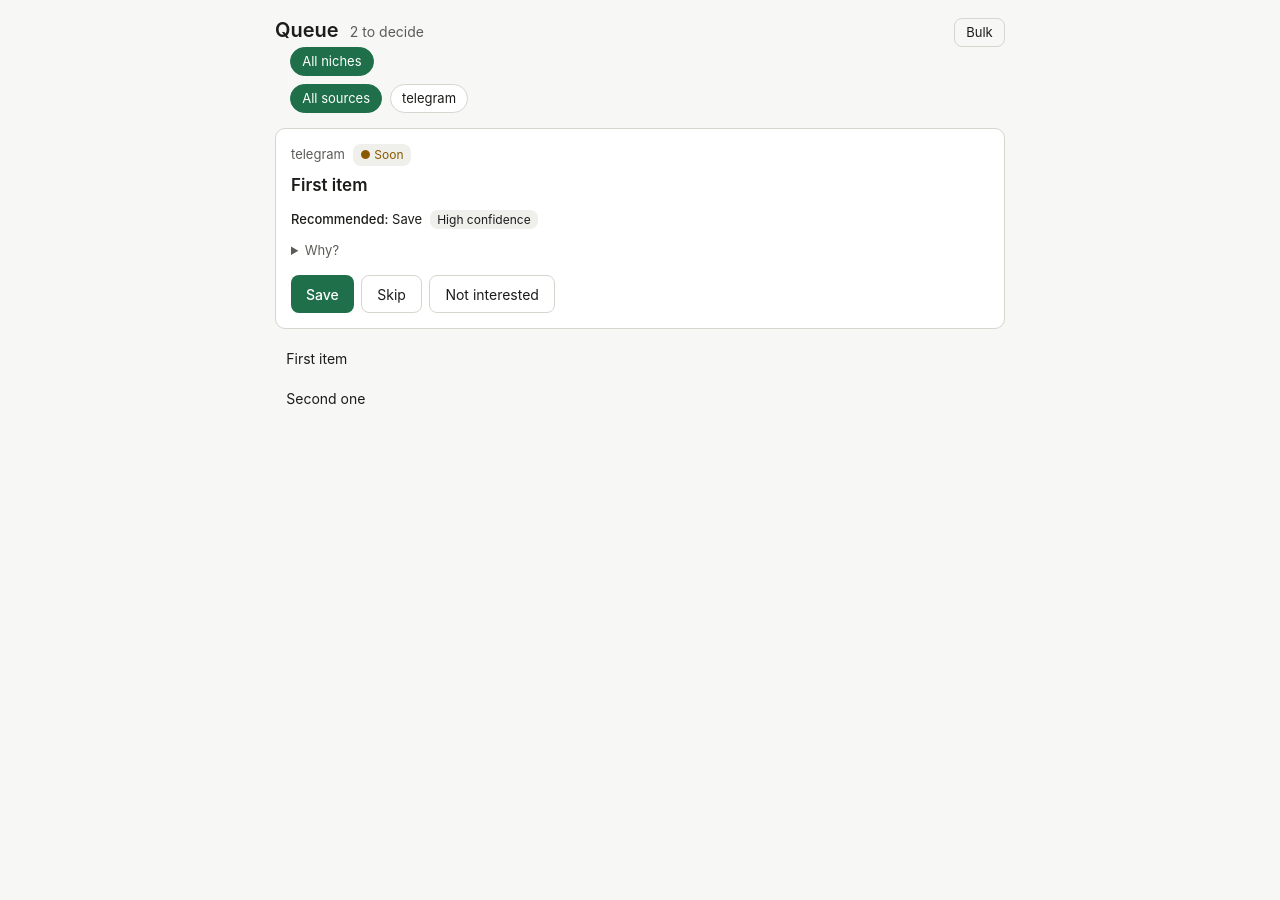
Test: command palette › filters as the user types and shows an empty state
This screenshot has width=1280, height=900.
Expected: the heading "First item" is shown, [291,175,368,195]
Press k
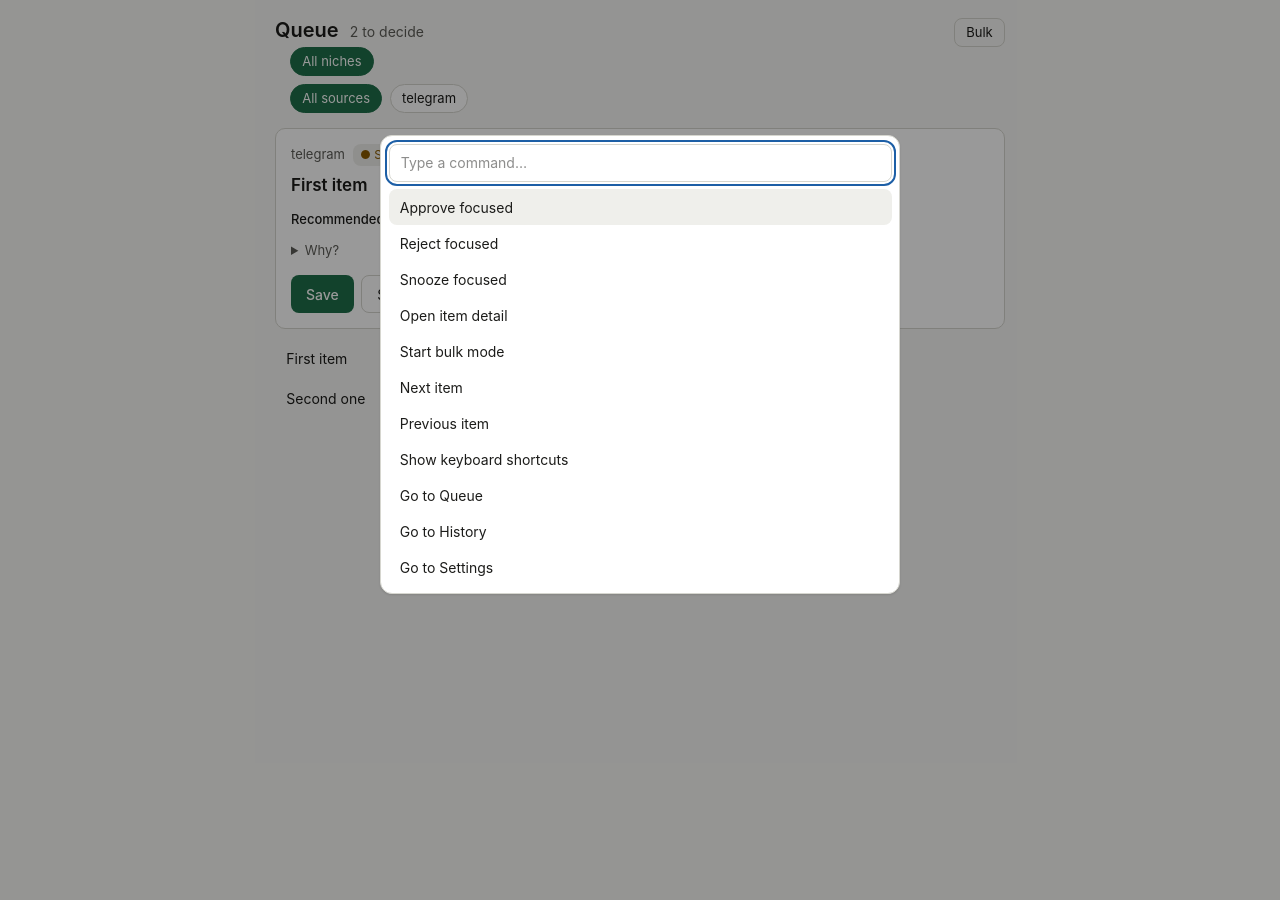
Type "history" into the dropdown at x=640, y=162, box [388,144,892,182]
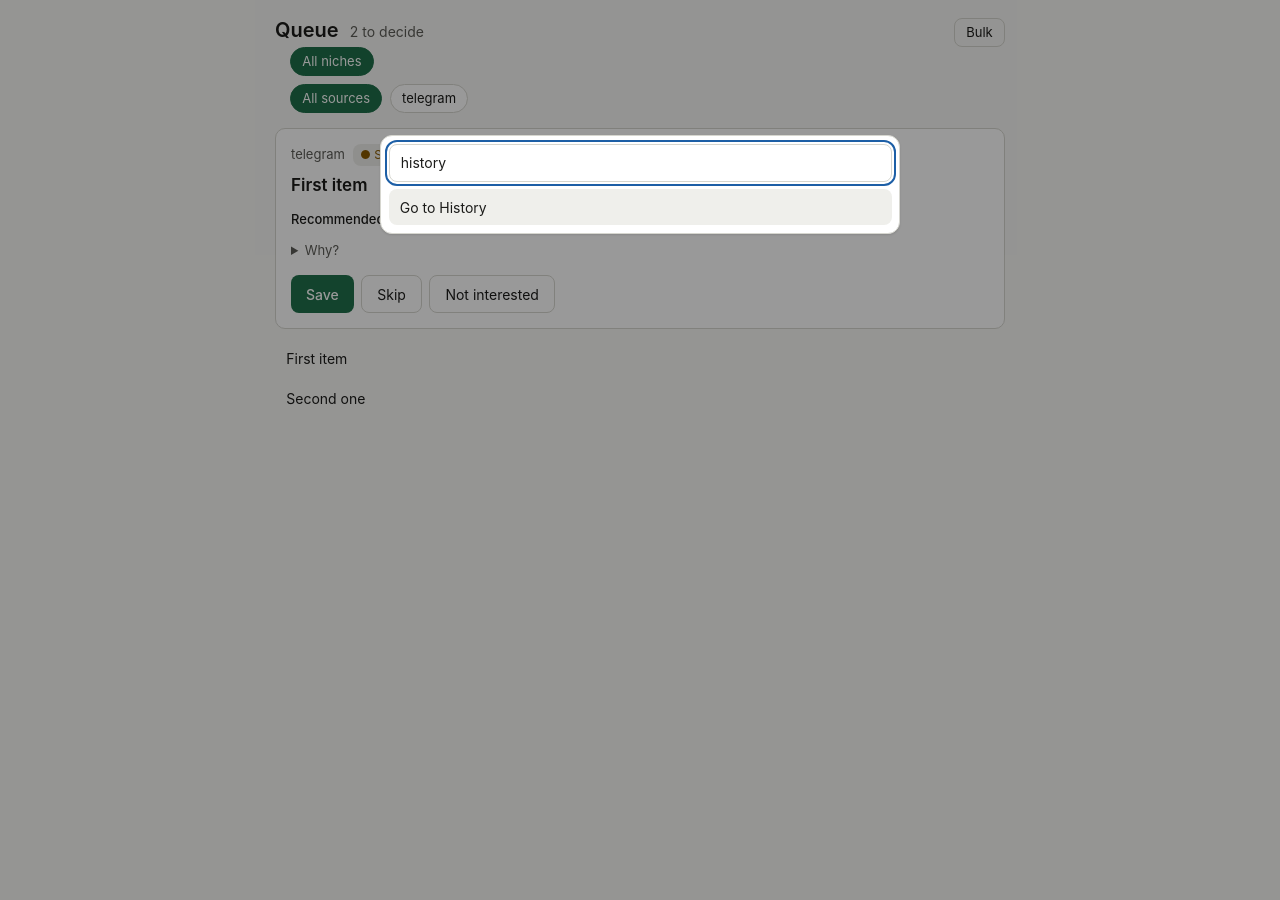
Result: the options read "Go to History", in this order at [388,189,892,225]
Replace the text in the dropdown with "zzzz" at x=640, y=162, box [388,144,892,182]
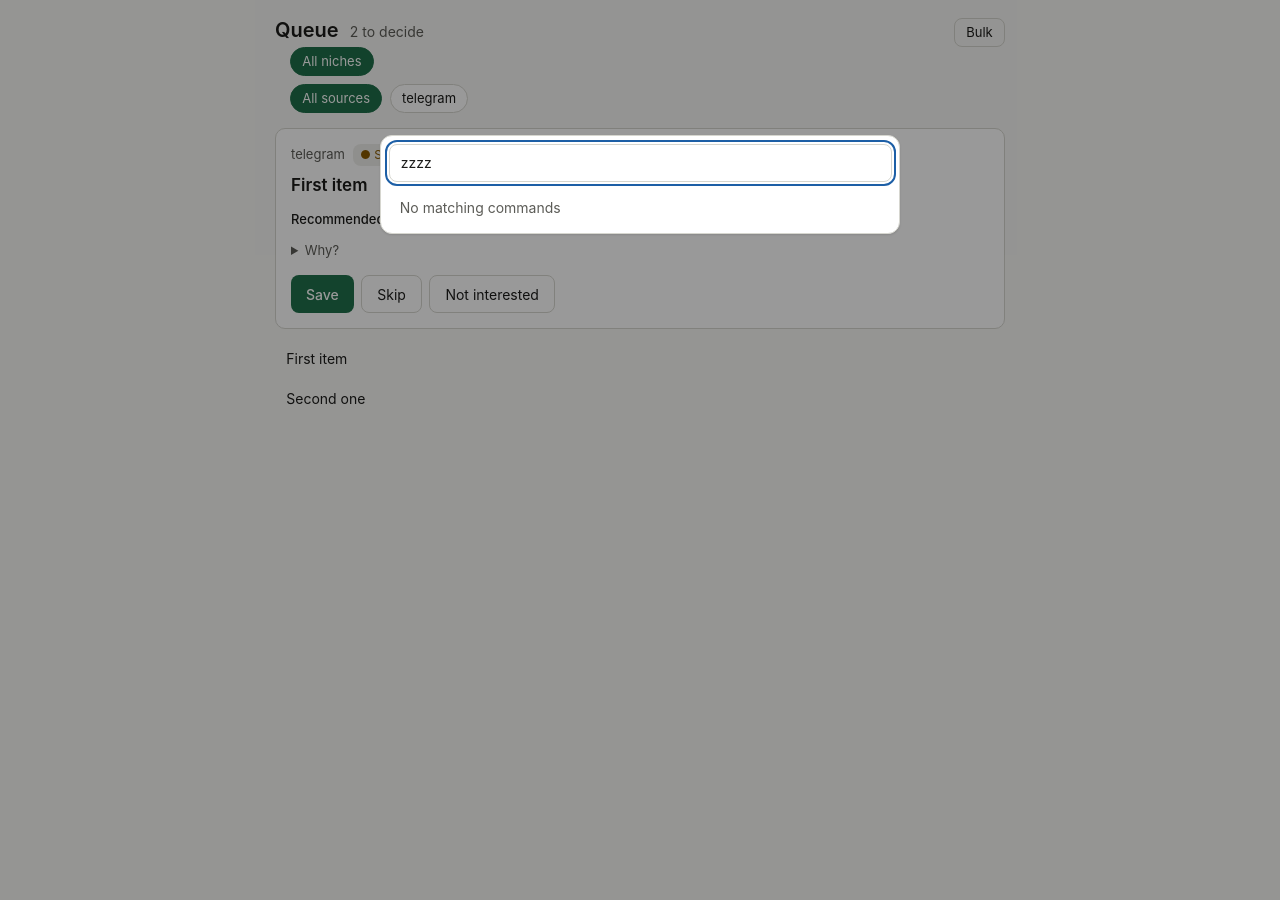
Result: no options are shown
Result: the text "No matching commands" is shown at [400,198,561,216]
